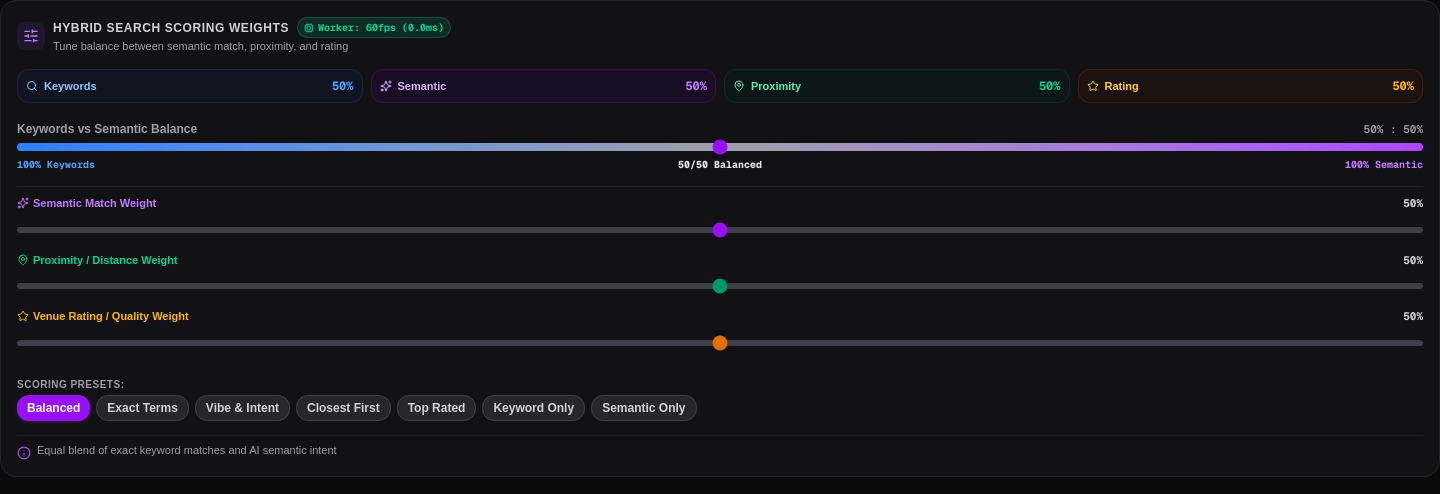
HybridSearchWeightSlider Component › applies scoring presets accurately across all weights
The image size is (1440, 494).
Click the button with test id "preset-search-weight-nearby_first". click: (343, 408)
box: top-left (296, 394), bottom-right (391, 420)
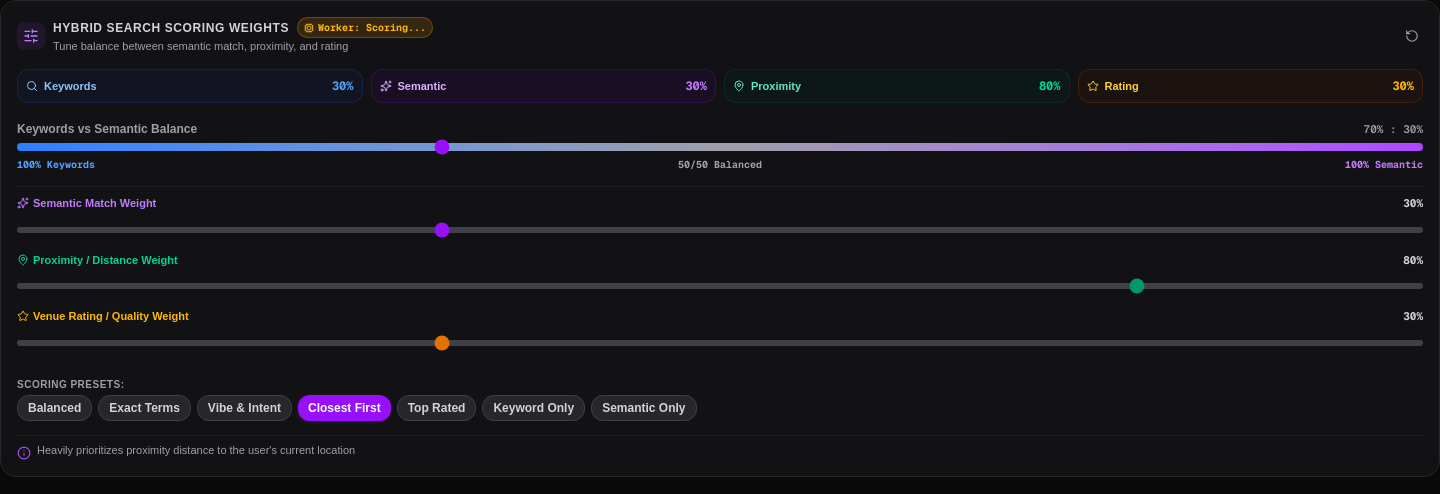
Expected: the element with test id "proximity-weight-badge" shows "80%", top-left (724, 68), bottom-right (1070, 103)
